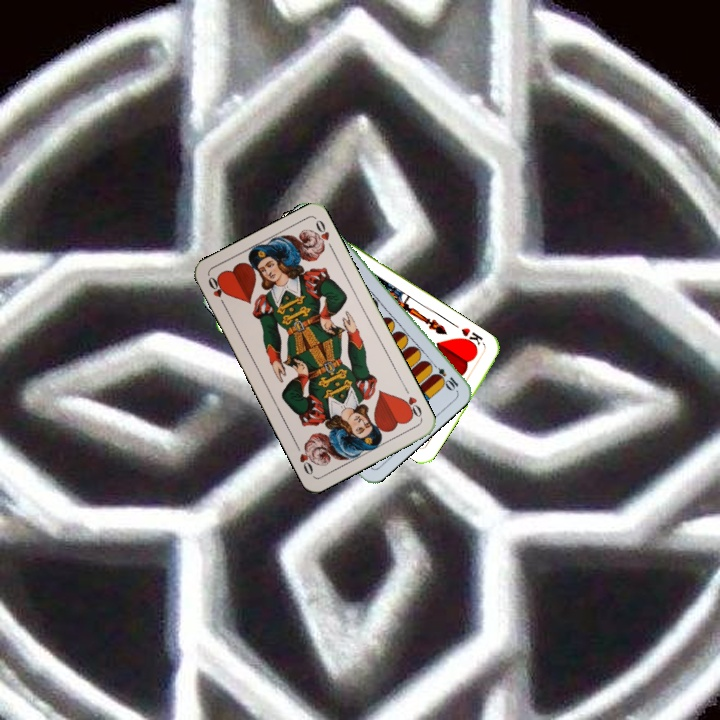E10: (427, 358, 461, 393)
HK: (456, 324, 488, 352)
HO: (398, 383, 425, 421), (204, 272, 229, 310)
